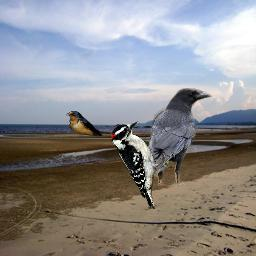Crow: (142, 88, 212, 186)
Swallow: (66, 111, 116, 136)
Woodpecker: (110, 121, 174, 209)
